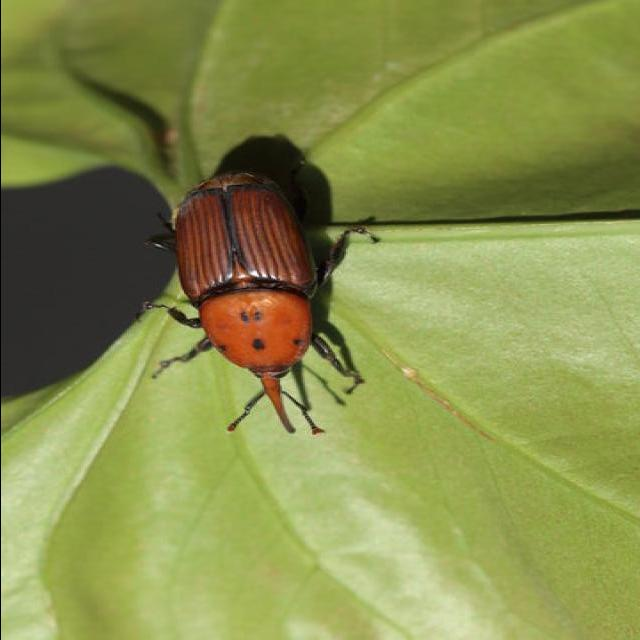Red-palm-weevil: (145, 145, 381, 456)
